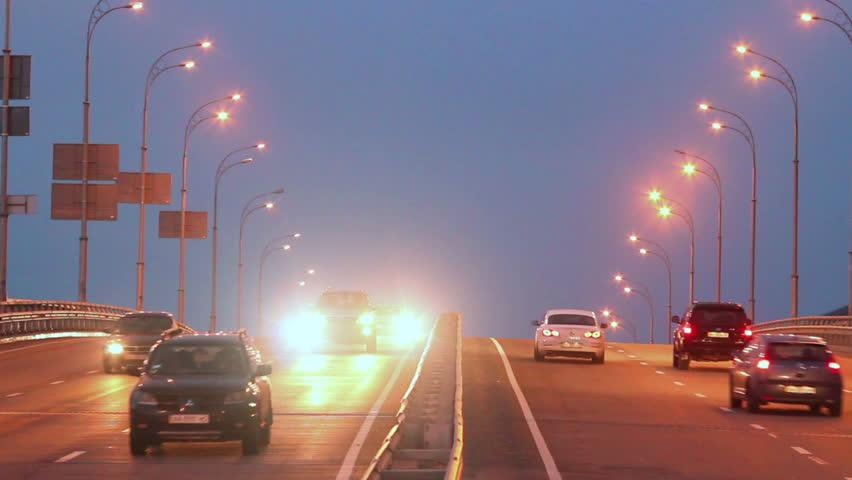backpack: (241, 333, 275, 378), (251, 372, 274, 436)
bed: (323, 300, 840, 471)
bench: (323, 300, 840, 471), (670, 300, 757, 368)
bus: (271, 288, 374, 383), (308, 293, 390, 412), (726, 308, 852, 381), (272, 317, 357, 405), (319, 284, 416, 356), (670, 299, 754, 368), (302, 285, 376, 356), (531, 307, 607, 363), (752, 311, 851, 352)
car: (336, 303, 848, 467), (127, 302, 575, 466), (579, 320, 838, 441), (130, 292, 340, 434), (15, 318, 236, 452), (81, 302, 261, 426), (626, 302, 833, 403), (125, 265, 326, 367), (127, 328, 275, 458), (304, 292, 438, 435), (362, 310, 459, 475), (213, 307, 368, 405), (219, 276, 399, 357), (291, 333, 405, 455), (295, 303, 393, 413), (723, 330, 843, 415), (271, 288, 374, 383), (107, 317, 222, 398), (269, 326, 371, 415), (188, 338, 268, 447), (151, 327, 272, 396), (230, 335, 330, 414), (367, 303, 433, 414), (332, 353, 408, 445), (266, 300, 335, 393), (742, 311, 849, 370), (323, 293, 426, 354), (100, 310, 195, 375), (170, 319, 283, 372), (671, 300, 754, 368), (767, 323, 850, 391), (299, 352, 398, 409), (699, 302, 764, 385), (0, 331, 110, 378), (249, 329, 302, 424), (260, 341, 348, 397), (199, 329, 281, 388), (279, 301, 364, 355), (240, 328, 315, 388), (281, 351, 360, 407), (218, 373, 272, 453), (533, 307, 606, 364), (233, 332, 274, 431), (315, 289, 376, 353), (112, 306, 197, 348), (754, 308, 852, 344), (135, 324, 199, 377), (143, 337, 218, 381), (274, 303, 327, 362), (766, 319, 851, 355), (370, 306, 430, 354), (308, 362, 367, 410), (710, 317, 764, 366), (278, 355, 327, 405), (797, 336, 847, 385), (560, 304, 626, 340), (229, 331, 274, 383), (778, 334, 842, 368), (302, 358, 342, 408), (249, 365, 274, 434), (824, 350, 847, 411), (760, 330, 832, 349), (247, 334, 280, 375), (150, 321, 196, 348), (731, 334, 769, 366), (728, 360, 751, 409), (593, 306, 628, 337), (354, 307, 376, 351), (101, 334, 124, 372), (157, 318, 196, 339), (603, 324, 646, 343), (605, 318, 633, 341), (592, 307, 615, 329), (596, 316, 617, 340), (600, 312, 624, 332), (529, 318, 542, 340)
chair: (670, 300, 757, 368)
fire hydrant: (315, 289, 376, 353), (252, 371, 273, 432)
horse: (251, 372, 274, 436)
kite: (112, 310, 200, 379), (317, 288, 375, 351)
motorcycle: (127, 330, 275, 458), (112, 310, 200, 379), (670, 300, 757, 368), (532, 307, 607, 364), (234, 330, 274, 432), (316, 288, 374, 352), (235, 369, 271, 450), (249, 365, 274, 434)
parking meter: (249, 365, 274, 434)
person: (139, 329, 275, 456), (730, 332, 833, 409), (299, 302, 372, 404), (141, 329, 259, 381), (112, 310, 200, 379), (743, 324, 847, 381), (670, 300, 757, 368), (267, 289, 334, 375), (202, 330, 274, 390), (731, 323, 782, 407), (532, 307, 607, 364), (232, 356, 272, 453), (316, 288, 374, 352), (242, 333, 276, 430), (144, 328, 198, 374), (769, 334, 837, 367), (195, 343, 256, 378), (239, 329, 270, 378), (215, 349, 269, 377), (251, 372, 274, 436), (732, 325, 769, 364), (178, 344, 221, 377), (216, 336, 254, 373), (146, 330, 174, 372), (247, 343, 274, 383), (175, 338, 208, 369), (165, 344, 200, 371), (355, 308, 376, 351), (238, 327, 260, 365), (204, 347, 237, 371), (192, 347, 225, 370), (214, 350, 245, 374), (184, 348, 212, 370), (248, 336, 266, 363), (149, 335, 165, 364), (790, 348, 812, 369), (176, 349, 199, 369), (151, 332, 169, 356), (778, 345, 802, 362), (238, 327, 255, 350), (193, 345, 210, 366), (797, 347, 819, 363), (670, 312, 681, 341)
suitcase: (124, 314, 275, 446), (670, 300, 757, 368), (251, 372, 274, 436)
traffic light: (340, 297, 433, 354), (315, 289, 376, 353), (2, 52, 32, 137), (373, 306, 426, 354), (356, 309, 377, 352), (4, 105, 30, 136), (647, 188, 672, 216), (655, 199, 672, 217)
train: (307, 286, 382, 355)
truck: (336, 303, 848, 467), (127, 302, 575, 466), (130, 292, 340, 434), (127, 330, 275, 458), (169, 270, 373, 358), (213, 307, 368, 405), (284, 315, 404, 433), (694, 301, 843, 392), (359, 303, 446, 455), (100, 306, 252, 392), (281, 280, 417, 362), (724, 330, 844, 415), (271, 288, 374, 383), (308, 293, 390, 412), (272, 317, 357, 405), (279, 343, 381, 414), (334, 287, 435, 353), (117, 313, 230, 370), (742, 311, 849, 370), (100, 310, 189, 376), (671, 300, 754, 368), (307, 286, 376, 356), (202, 330, 274, 390), (368, 294, 429, 364), (533, 307, 606, 364), (590, 307, 629, 336), (597, 309, 623, 329)
umbrella: (112, 310, 200, 379), (754, 310, 851, 350)
